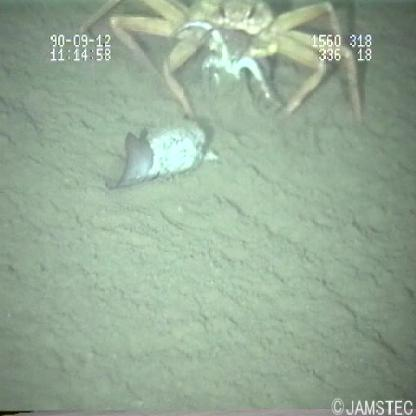Bio: (74, 1, 366, 195)
